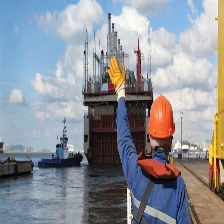helmet: (146, 96, 177, 144)
no-vest: (125, 156, 194, 224)
person: (113, 92, 195, 224)
